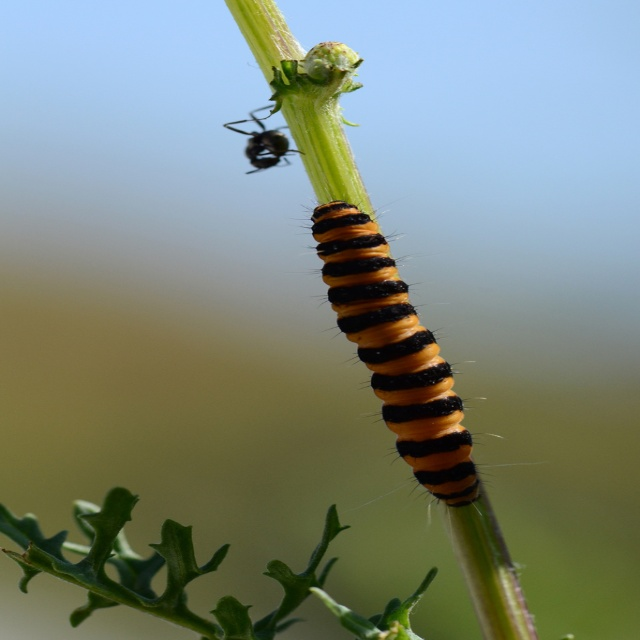Caterpillar: (284, 199, 544, 534)
